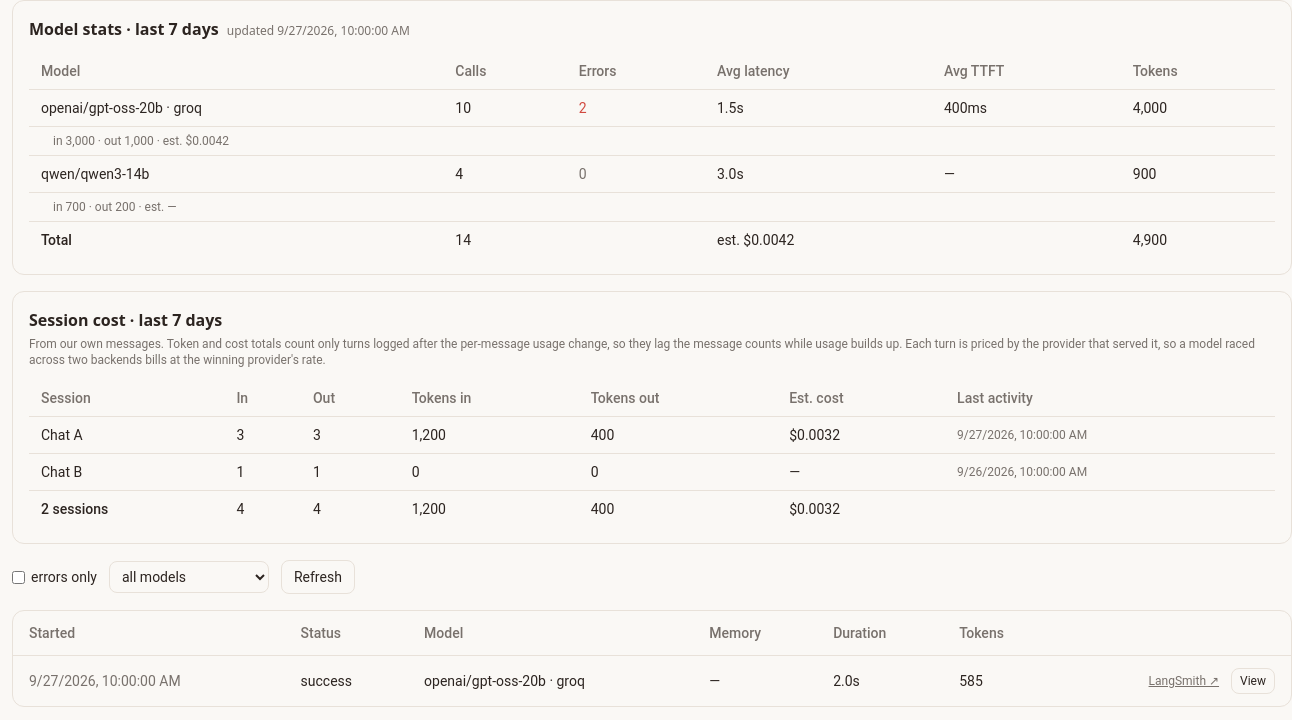
AdminLangsmithView (#186) › shows the detail error when a trace cannot be loaded
This screenshot has width=1292, height=720.
Click the button with test id "langsmith-open-trace-1".
click(1253, 681)  # box left=1231, top=668, right=1275, bottom=694
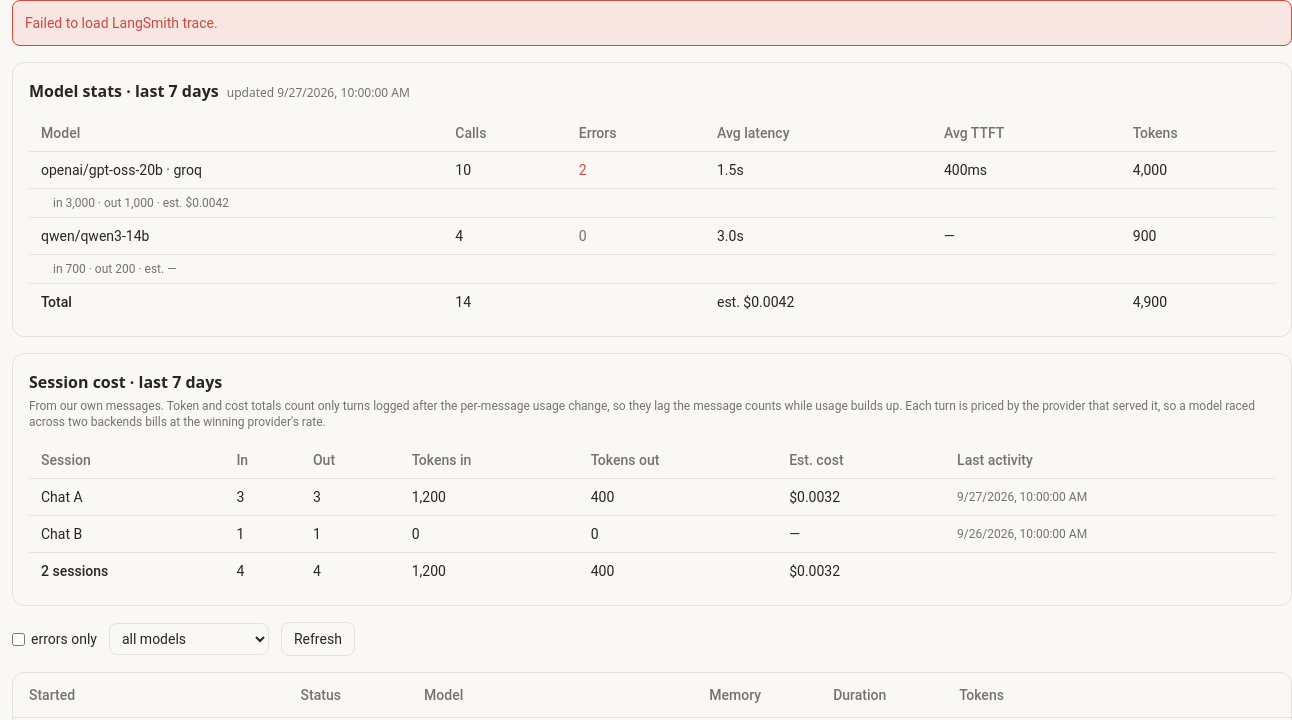
Result: the text "Failed to load LangSmith trace." is shown at left=12, top=0, right=1291, bottom=46
